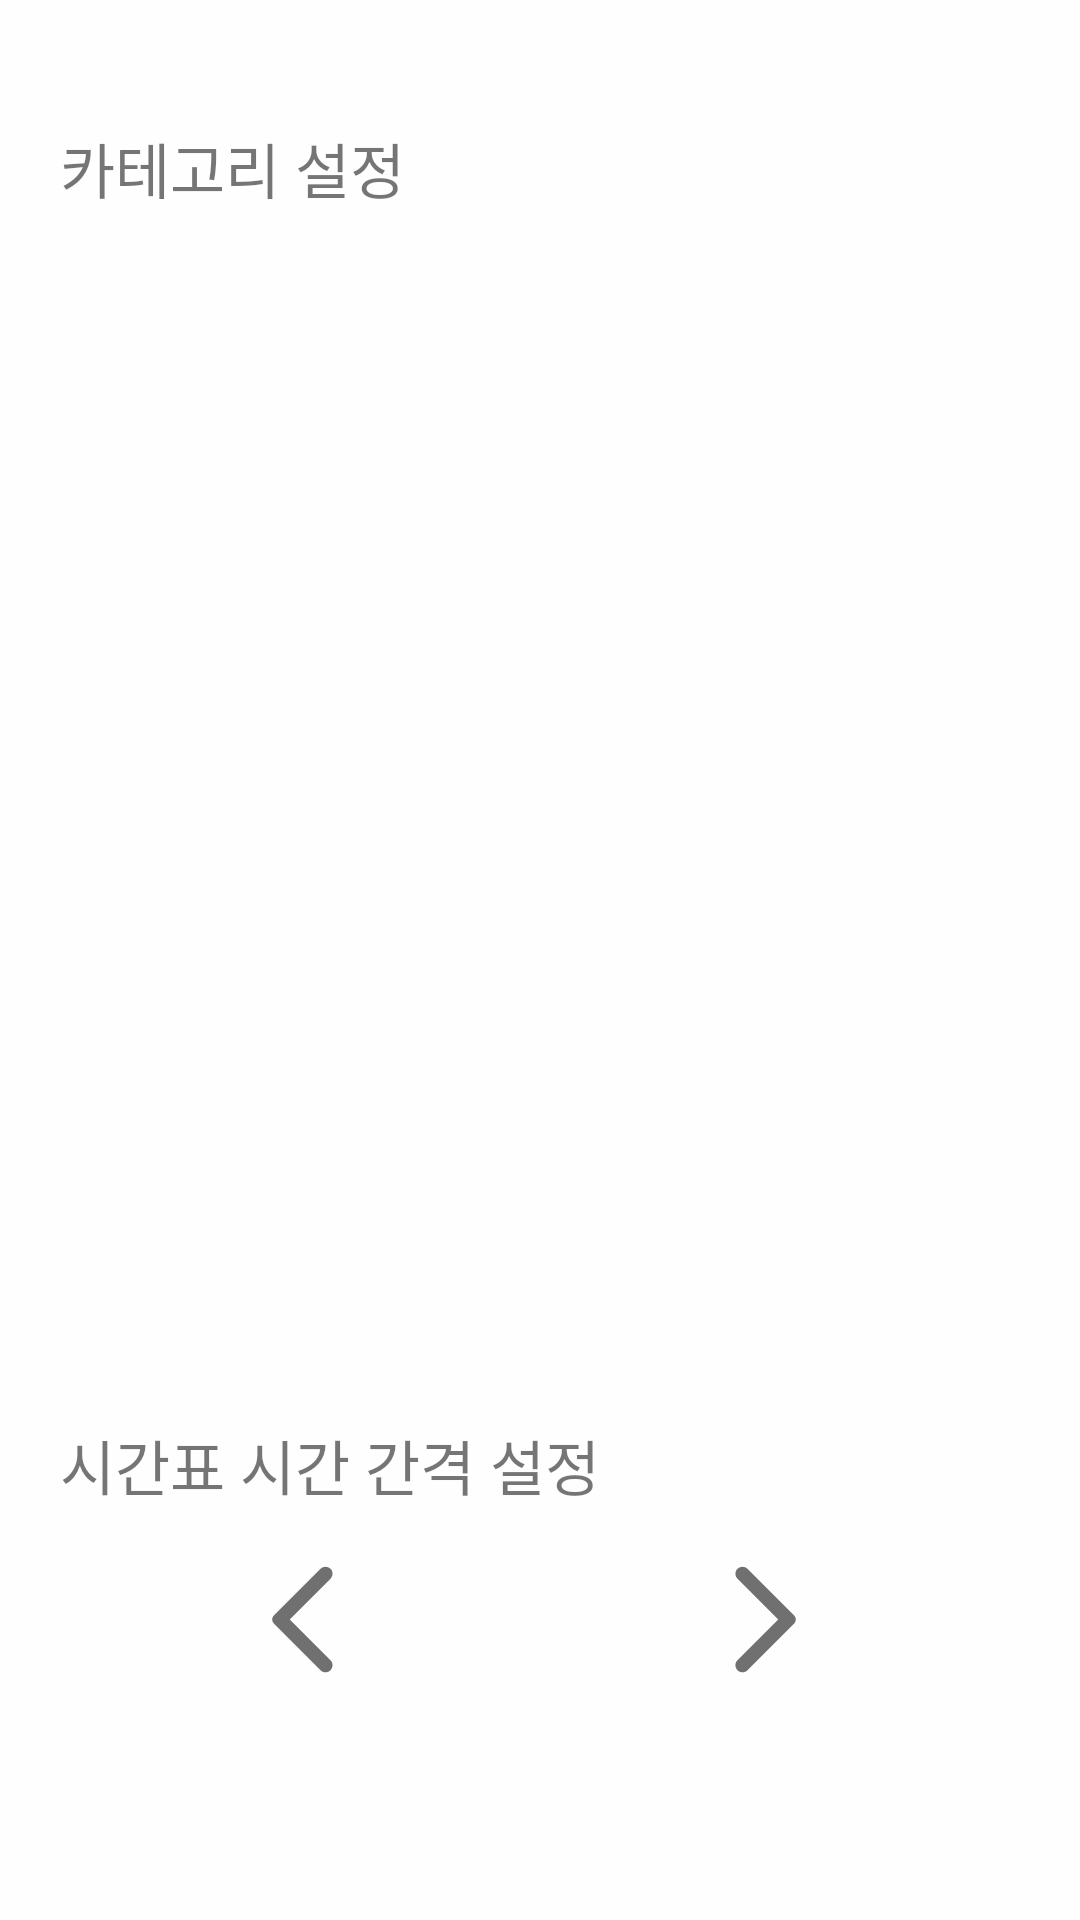

Icons on this 1080px×1920px Android screen, each with its box as (x1, y1, x2, y2):
arrow back: (272, 1566, 333, 1673)
arrow forward: (735, 1566, 796, 1673)
